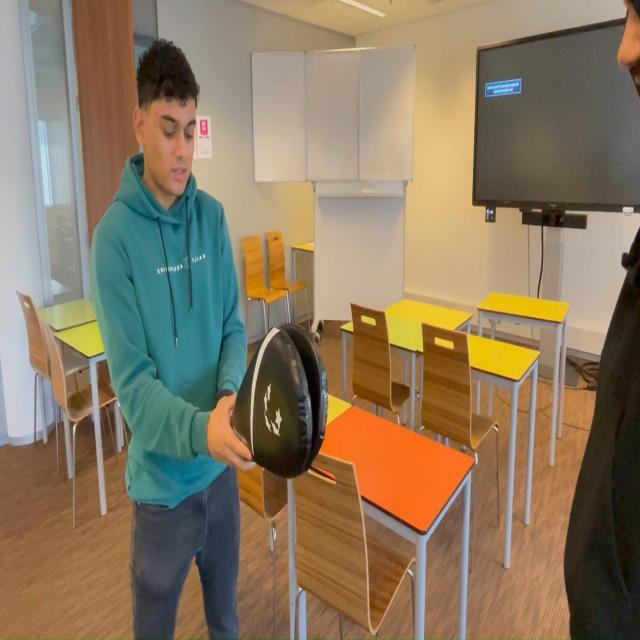paddle: (240, 326, 326, 469)
